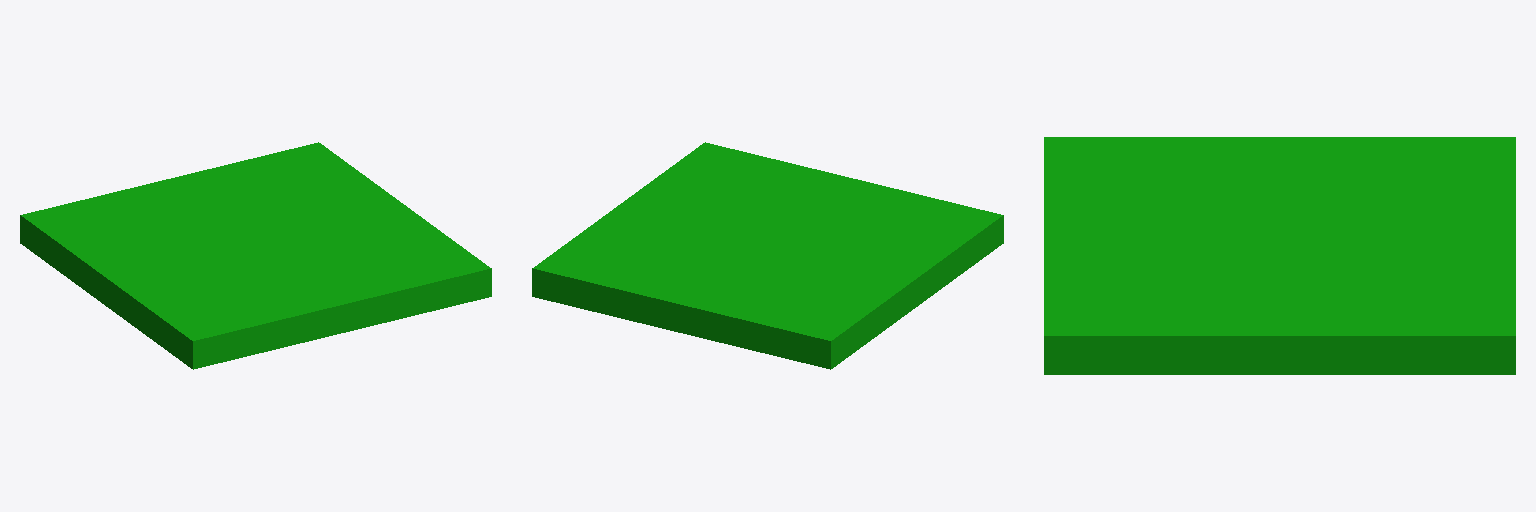
robot.urdf — block_big:
<robot name="block_big" xmlns:xacro="http://www.ros.org/wiki/xacro">
  <link name="base_link">
    <contact>
      <lateral_friction value="0.9"/>
      <spinning_friction value=".1"/>
      <rolling_friction value=".1"/>
    </contact>
    <inertial>
      <origin rpy="0 0 0" xyz="0 0 0"/>
      <mass value="6.0"/>
      <inertia ixx="0.1525" ixy="0" ixz="0" iyy="0.1525" iyz="0" izz="0.3025"/>
    </inertial>
    <visual>
      <origin rpy="0 0 0" xyz="0.0 0.0 0.0"/>
      <geometry>
        <box size="0.55 0.55 0.05"/>
      </geometry>
      <material name="blockmat">
        <color rgba="0.1 0.7 0.1 0.8"/>
      </material>
    </visual>
    <collision>
      <origin rpy="0 0 0" xyz="0.0 0.0 0.0"/>
      <geometry>
        <box size="0.55 0.55 0.05"/>
      </geometry>
    </collision>
  </link>
</robot>

--- Facts derived from the render (not from the file) ---
The picture shows the robot from 3 angles, left to right: view 1: azimuth 30°, elevation 25°; view 2: azimuth 150°, elevation 25°; view 3: azimuth 270°, elevation 25°; orthographic projection.
Robot: block_big — 1 links, 0 joints (none); root link base_link; default pose: every joint at zero.
Visible links, largest first — view 1: base_link; view 2: base_link; view 3: base_link.
Boxes of the visible links, x1,y1,x2,y2 form: base_link: [20, 142, 491, 369]; base_link: [532, 142, 1003, 369]; base_link: [1044, 137, 1515, 374].
Bounding box of the posed robot: 0.55 × 0.55 × 0.05 m (x, y, z).
Geometry: primitives only (box / cylinder / sphere), no mesh files.